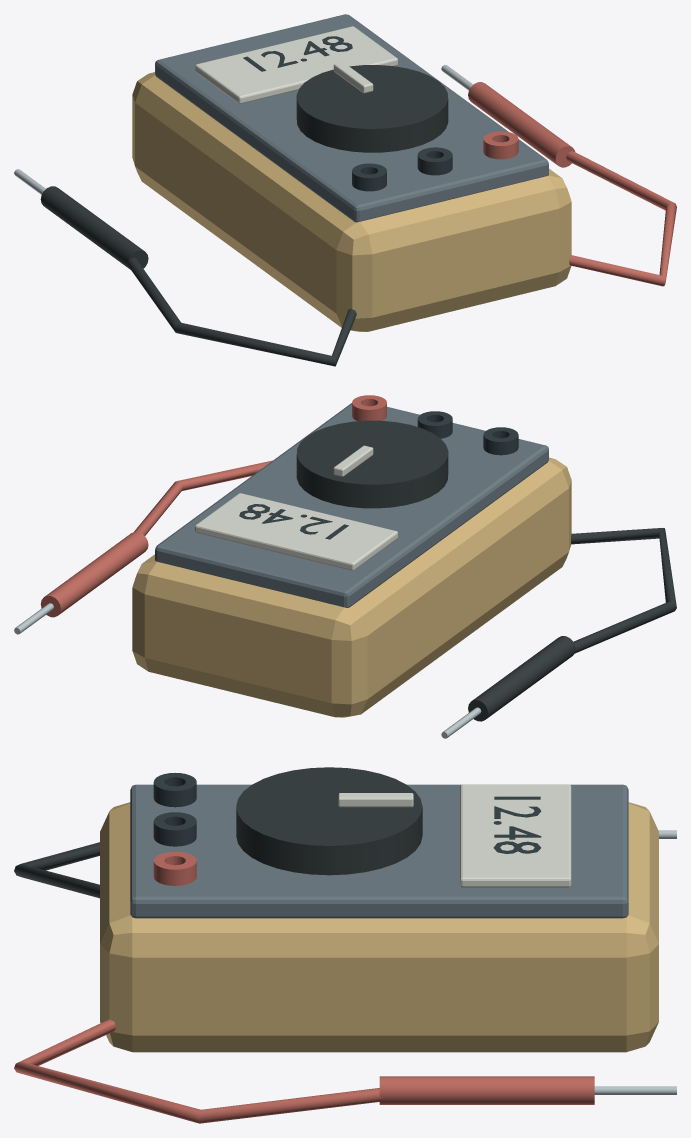
The model's file is loot_multimeter.glb.
The picture shows the model from 3 angles, top to bottom: view 1: azimuth 30°, elevation 25°; view 2: azimuth 150°, elevation 25°; view 3: azimuth 270°, elevation 25°; orthographic projection. The views are drawn at different scales.
Visible parts, largest first — view 1: loot_multimeter; view 2: loot_multimeter; view 3: loot_multimeter.
Part boxes in pixels (box(x1,y1,x2,y2)): loot_multimeter: box(14, 14, 676, 366); loot_multimeter: box(14, 395, 676, 738); loot_multimeter: box(14, 767, 676, 1123).
Size of the model in its own units: 0.1989 by 0.0615 by 0.185.
